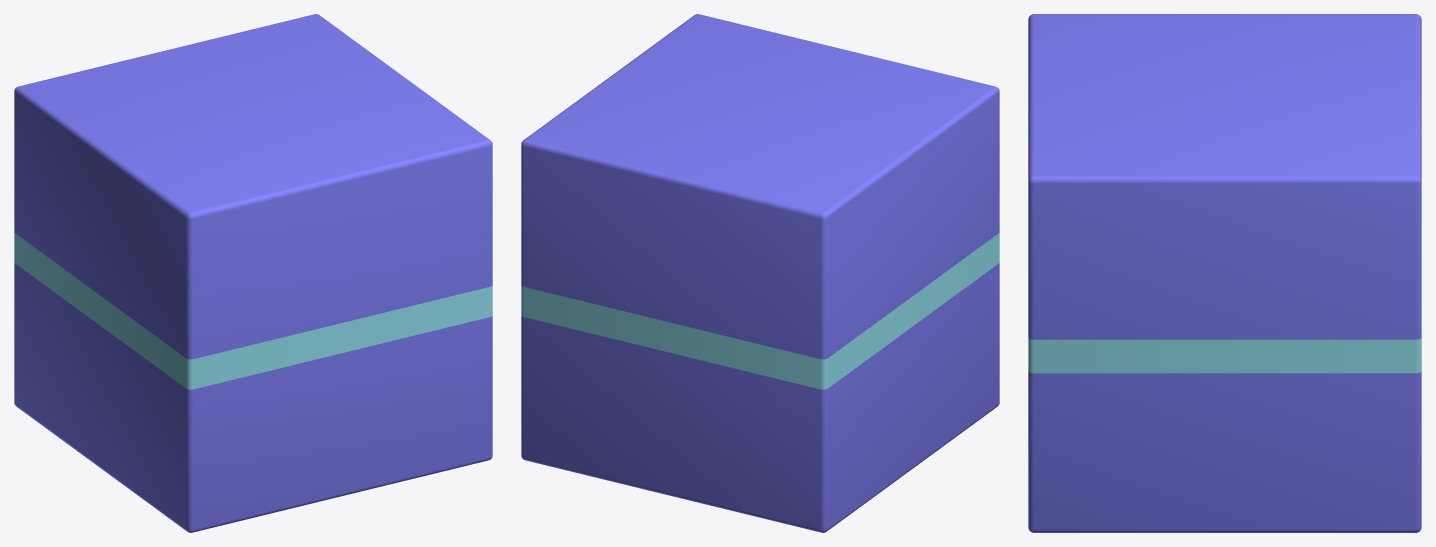
3 renders of one model, left to right at view 1: azimuth 30°, elevation 25°; view 2: azimuth 150°, elevation 25°; view 3: azimuth 270°, elevation 25°, orthographic. The views are drawn at different scales.
Visible parts, largest first — view 1: Box_01, Neon_01; view 2: Box_01, Neon_01; view 3: Box_01, Neon_01.
Boxes of the visible parts, x1,y1,x2,y2 form: Box_01: [14, 14, 492, 532]; Neon_01: [14, 233, 492, 389]; Box_01: [521, 14, 999, 532]; Neon_01: [521, 233, 999, 389]; Box_01: [1028, 14, 1421, 532]; Neon_01: [1028, 338, 1421, 373].
Size of the model in its own units: 2 by 2 by 2.
2 materials, 1 textured.
